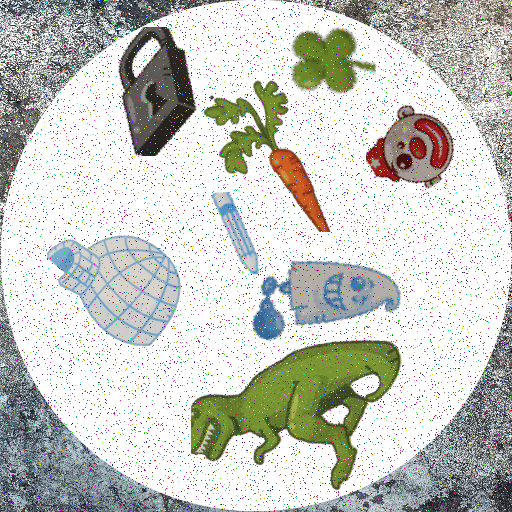carrot_icon: (195, 61, 366, 232)
cloverleaf_icon: (283, 22, 376, 115)
clown_icon: (366, 103, 455, 192)
dino_icon: (191, 283, 404, 496)
ghost_icon: (247, 220, 405, 378)
igloo_icon: (37, 210, 184, 357)
lock_icon: (88, 27, 217, 156)
pen_icon: (195, 191, 280, 276)
